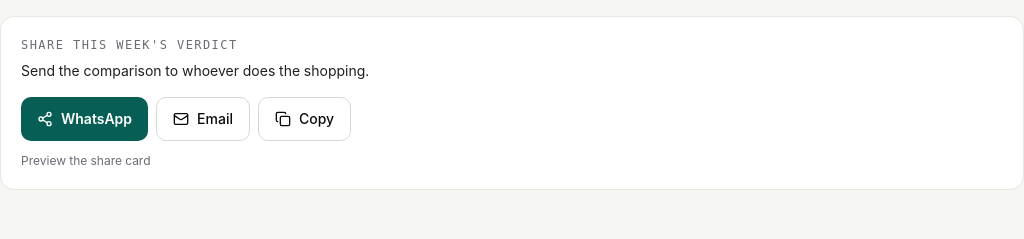
ShareVerdictButton — share and clipboard outcomes › announces "Copied" in the live region when the clipboard write succeeds
Step 1. Click the button "Copy" → (305, 119), box [258,97,351,141]
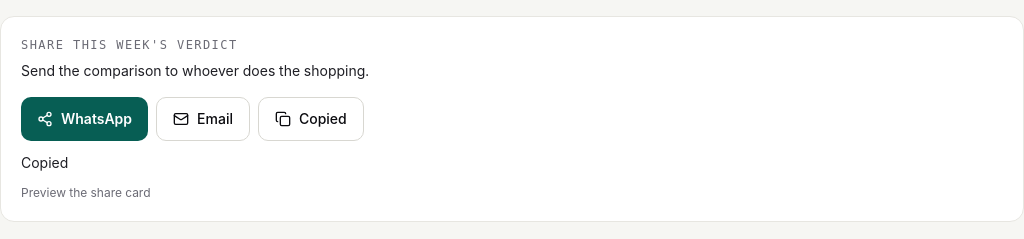
Expected: the message reads "Copied", [21,154,68,171]
